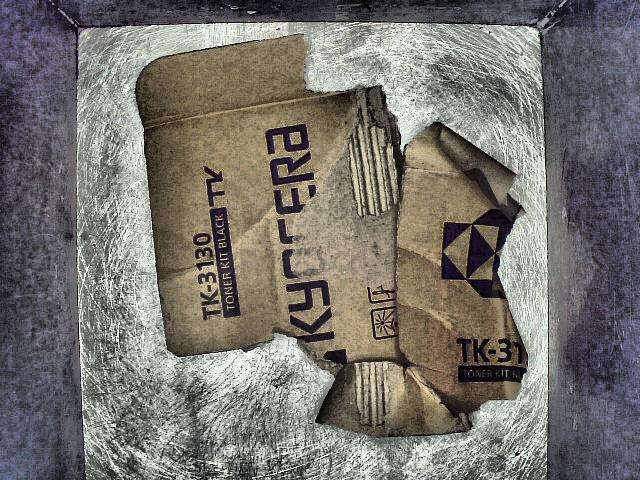Paper: (126, 25, 559, 470)
